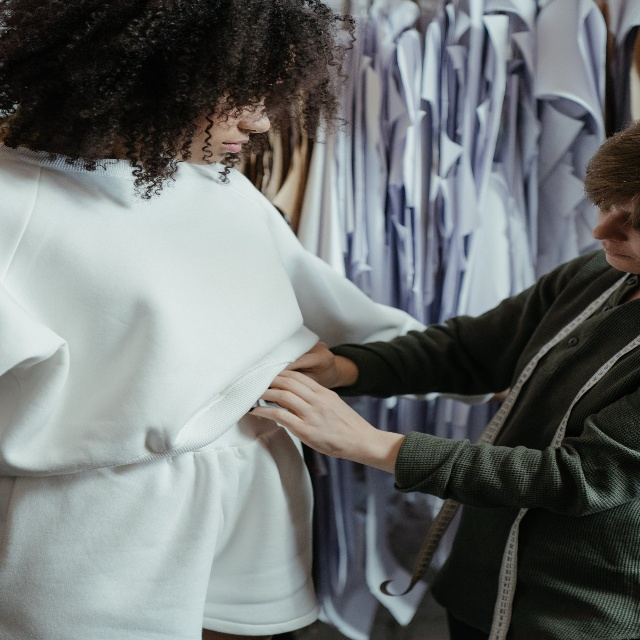Sin_guantes: (247, 370, 369, 461), (284, 341, 339, 389)
